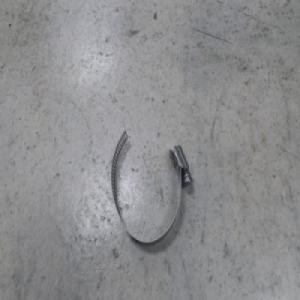AdjustableClamp: (110, 129, 191, 243)
